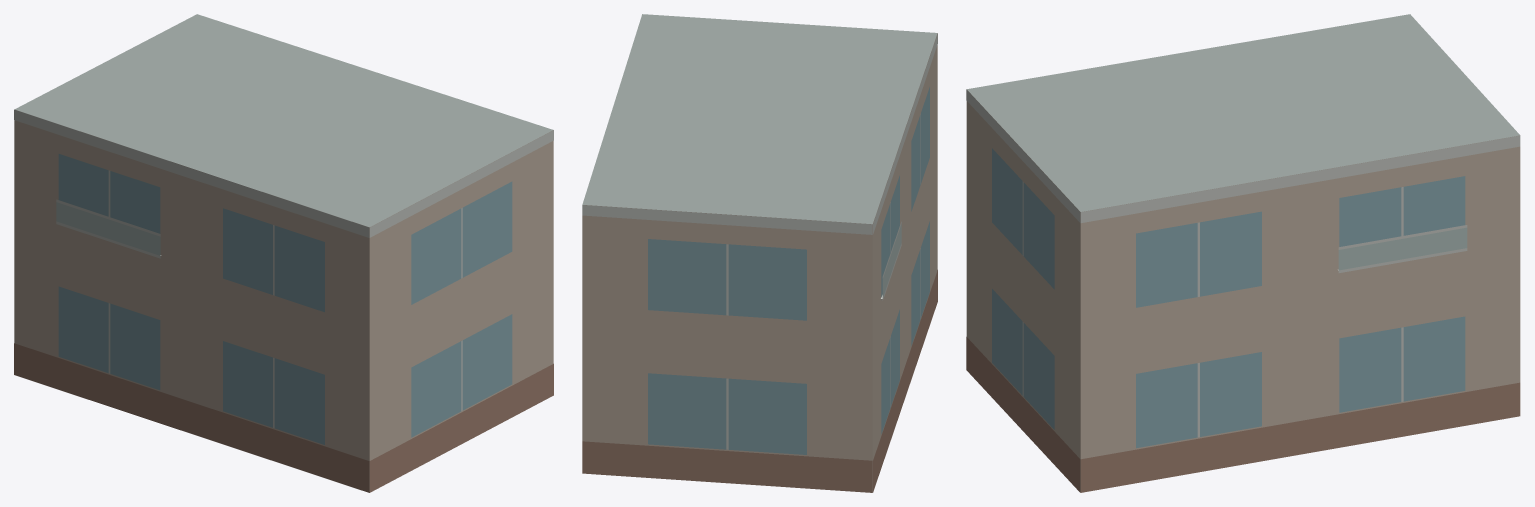
File: survey-upis-32823651.glb
3 views of the same model, side by side, from view 1: azimuth 30°, elevation 25°; view 2: azimuth 150°, elevation 25°; view 3: azimuth 270°, elevation 25° (orthographic). The views are drawn at different scales.
Visible parts, largest first — view 1: survey-upis-32823651.tmp; view 2: survey-upis-32823651.tmp; view 3: survey-upis-32823651.tmp.
Boxes of the visible parts, x1,y1,x2,y2 form: survey-upis-32823651.tmp: [14, 14, 553, 492]; survey-upis-32823651.tmp: [582, 14, 937, 492]; survey-upis-32823651.tmp: [966, 14, 1520, 492].
Bounding box in the file's own units: 9.24 × 6.1 × 10.92.
